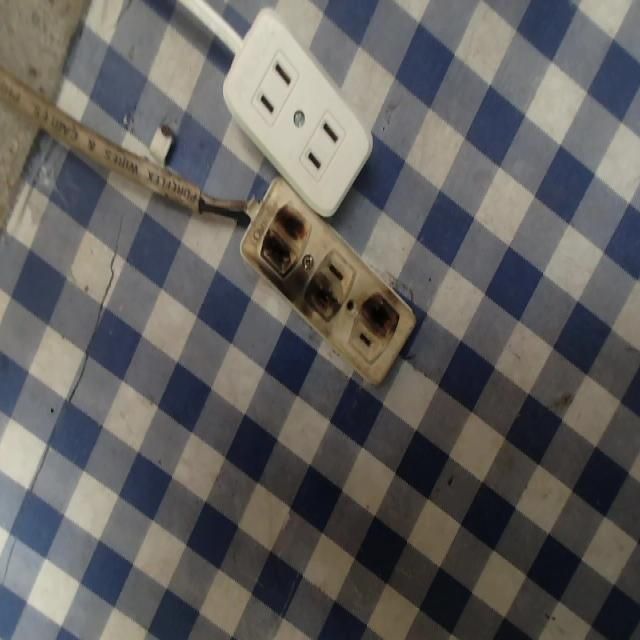-: (261, 200, 313, 279), (356, 277, 409, 348), (303, 276, 337, 329)
